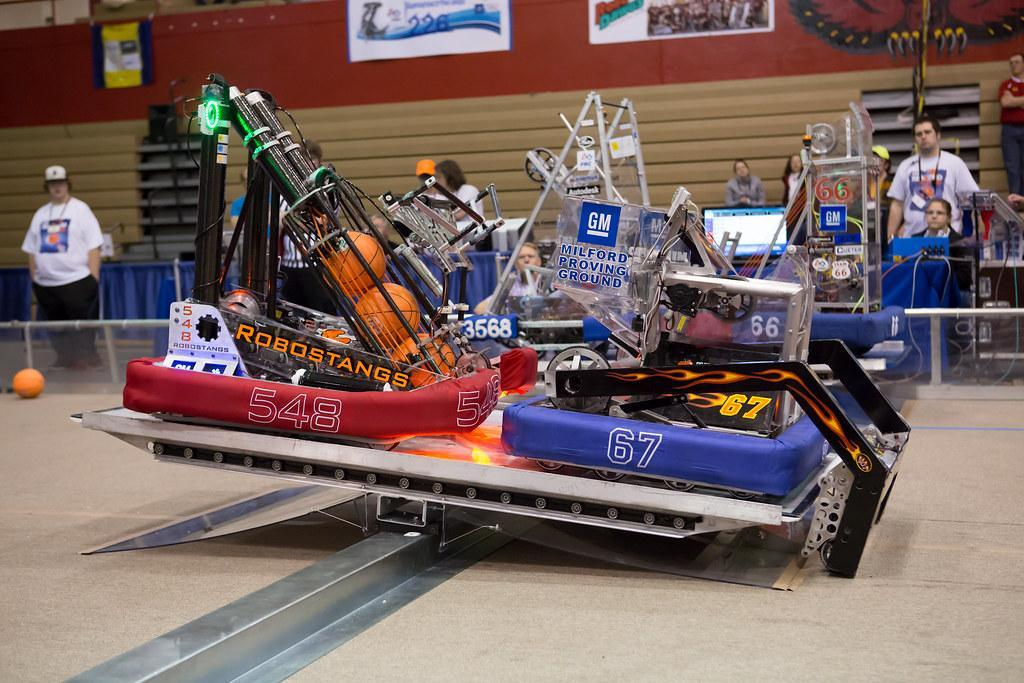robot: (493, 167, 934, 584), (116, 70, 539, 440), (426, 89, 644, 348), (709, 99, 917, 361)
